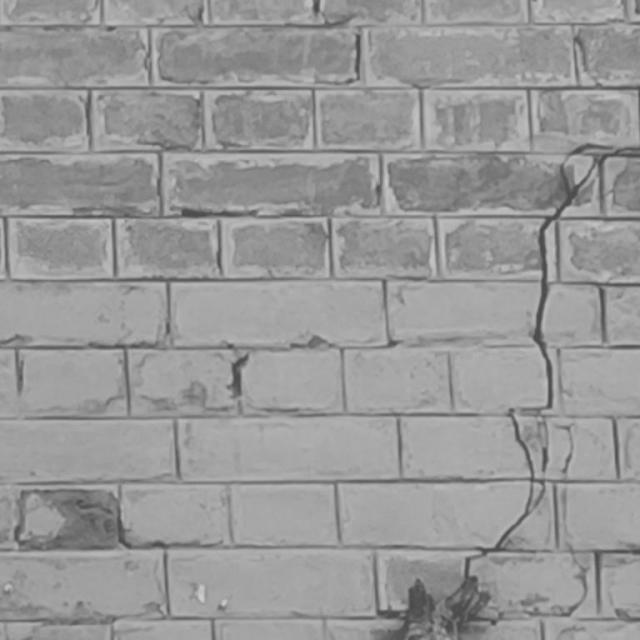crack: (464, 143, 639, 580), (552, 422, 590, 615)
